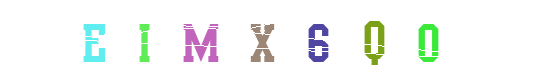0: (334, 0, 414, 80)
6: (278, 0, 358, 80)
E: (71, 0, 151, 80)
I: (164, 0, 244, 80)
M: (225, 0, 305, 80)
Q: (289, 0, 369, 80)
X: (233, 0, 313, 80)
